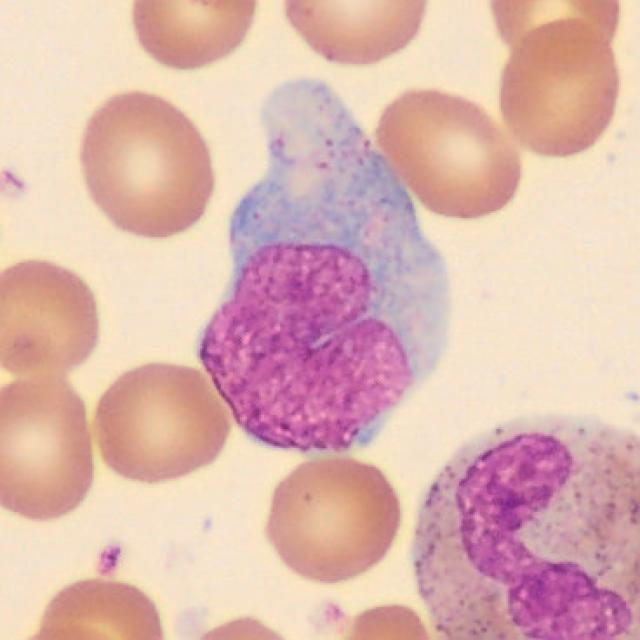Monocito: (198, 81, 450, 455)
Neutrofilo segmentado: (416, 415, 640, 640)
